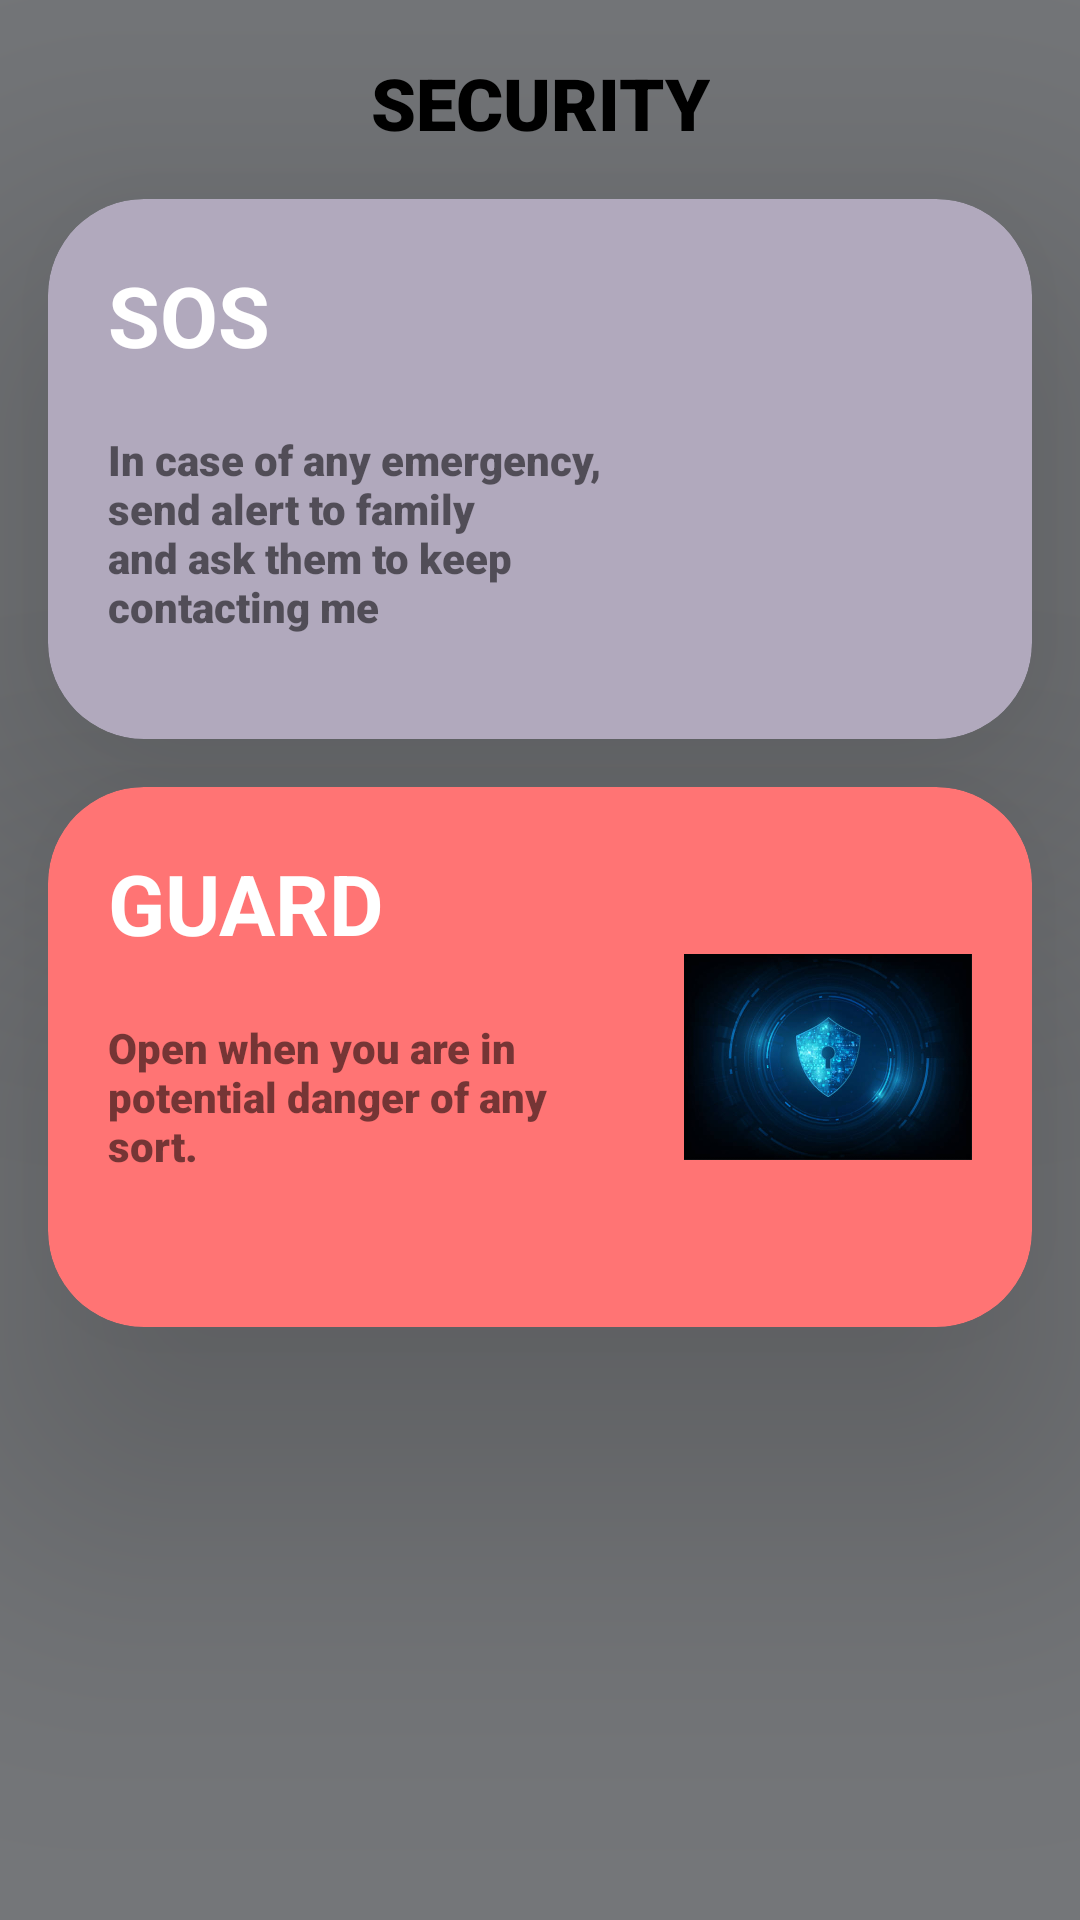

Icons on this 1080×1920 Android screen, each with its box as (x1, y1, x2, y2):
cyber: (684, 954, 972, 1160)
